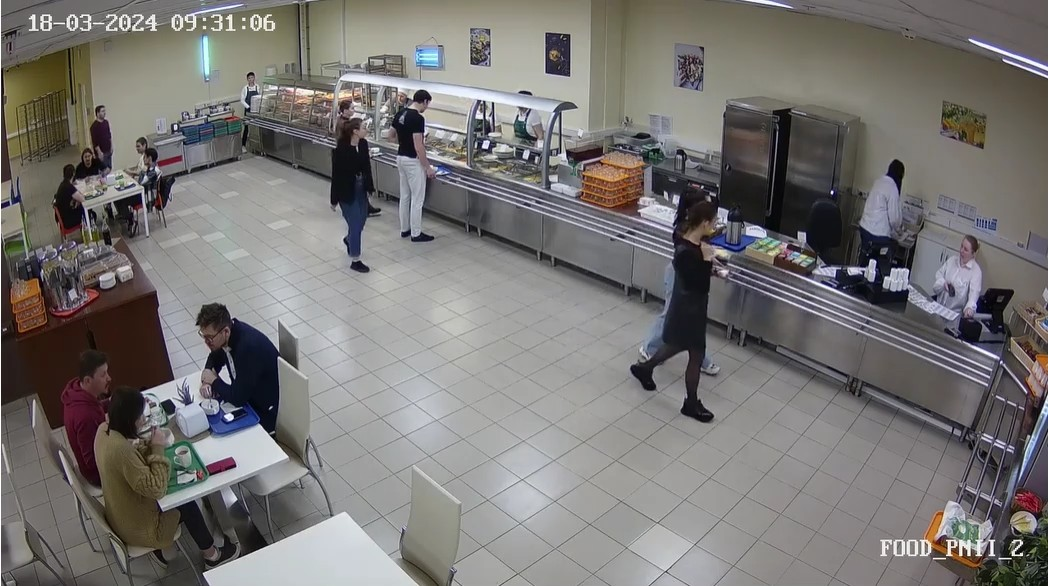Ne_v_Ocheredi: (87, 96, 120, 168)
Personal: (854, 140, 913, 280), (933, 225, 989, 330), (227, 56, 279, 130), (508, 81, 551, 156), (470, 92, 501, 157)
Vybiraet: (643, 201, 718, 425), (631, 190, 715, 353), (390, 79, 463, 265), (328, 120, 380, 279), (323, 82, 367, 121)
Za_Stolom: (183, 297, 297, 438), (92, 384, 167, 558), (61, 337, 126, 491), (131, 145, 182, 222), (39, 161, 90, 238), (126, 129, 162, 189), (71, 140, 109, 189)
